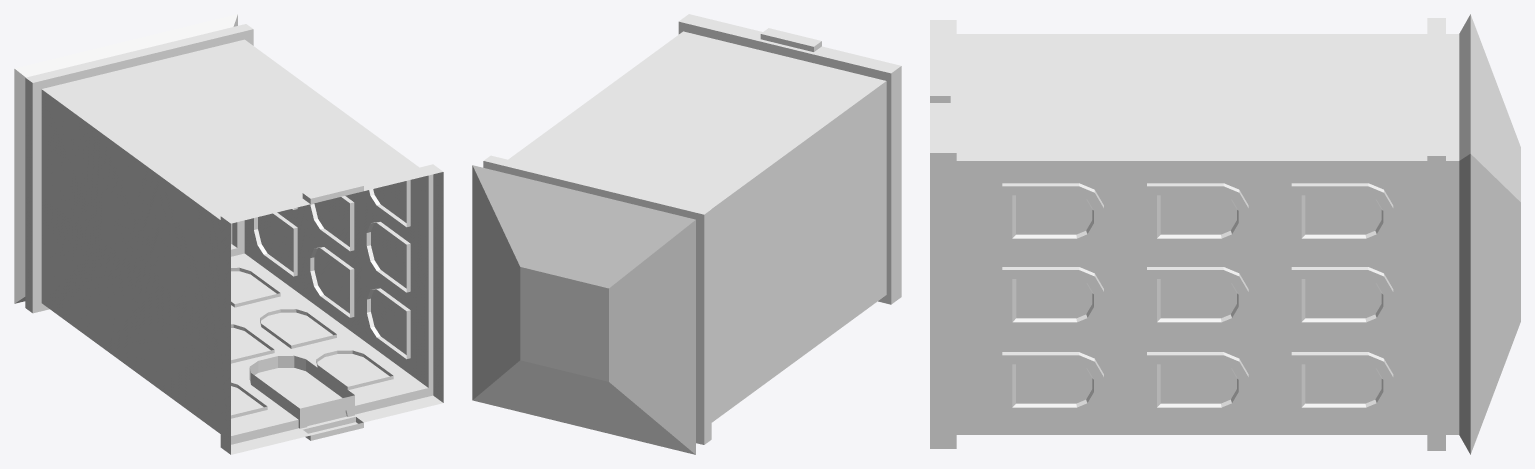
File: venice_building_1.fbx
The picture shows the model from 3 angles, left to right: view 1: azimuth 30°, elevation 25°; view 2: azimuth 150°, elevation 25°; view 3: azimuth 270°, elevation 25°; orthographic projection. The views are drawn at different scales.
Visible parts, largest first — view 1: Cube.260; view 2: Cube.260; view 3: Cube.260.
Part boxes in pixels (left/top/right/bottom): Cube.260: left=14, top=14, right=443, bottom=454; Cube.260: left=472, top=14, right=901, bottom=454; Cube.260: left=930, top=14, right=1520, bottom=454.
Size of the model in its own units: 860 by 890 by 1537.
